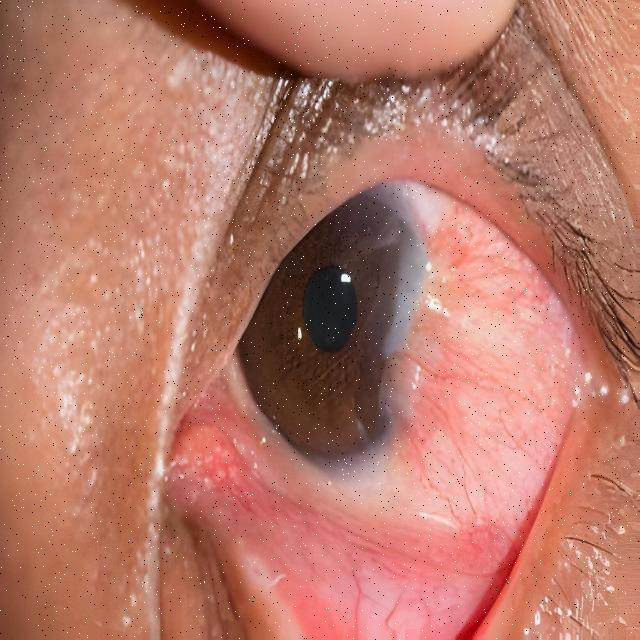Pterygium: (341, 210, 578, 530)
